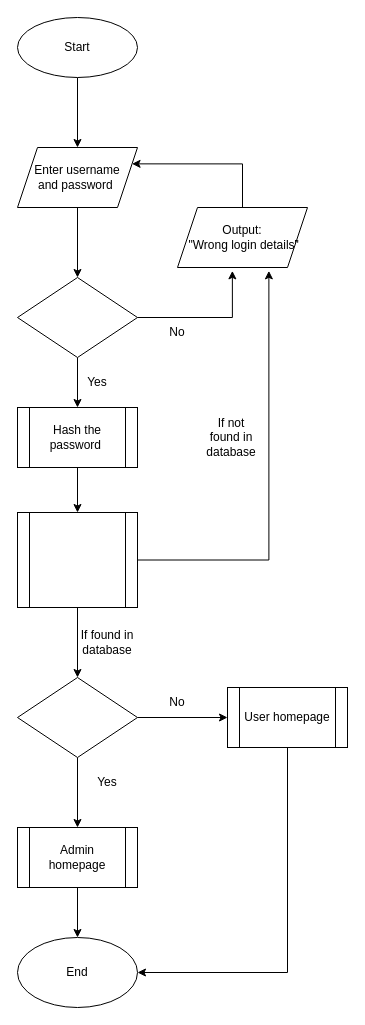
This 365x1025 diagram has some shape labels left out. The centre of each missing label's shape, as x and y in pixels:
"Is the username admin?" goes at pixel 77 717.
"Is username and password valid?" goes at pixel 77 317.
"Search the database for the entered username and the hashed password" goes at pixel 77 560.
